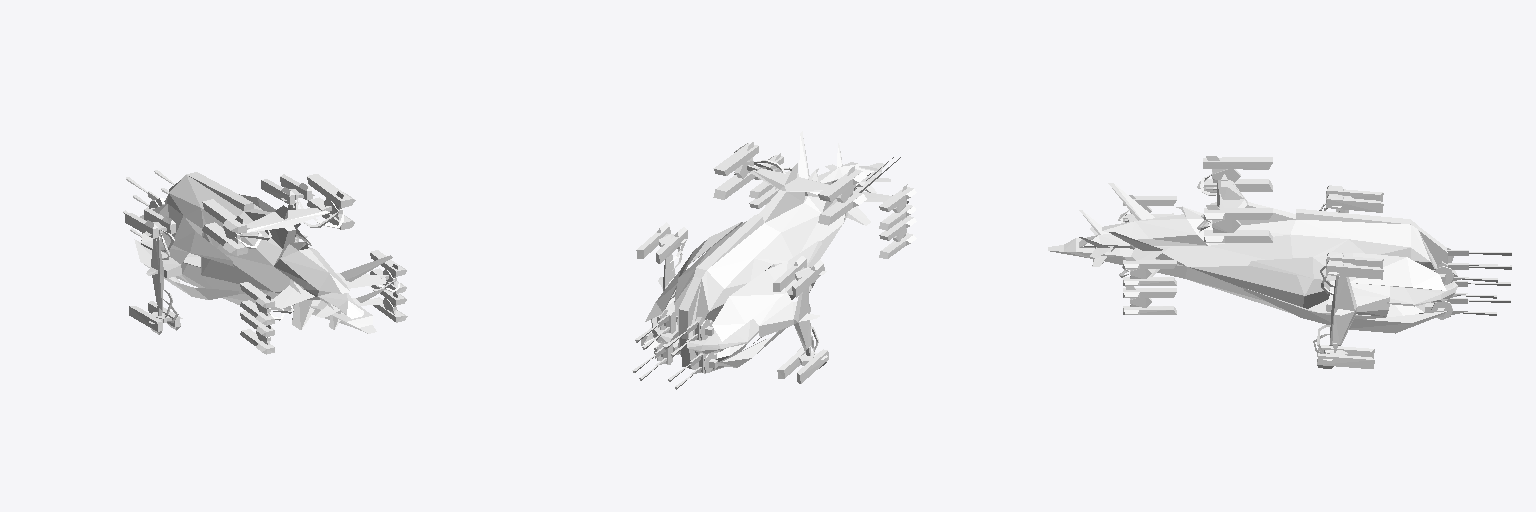
The model's file is ravager.obj.
3 views of the same model, side by side, from view 1: azimuth 30°, elevation 25°; view 2: azimuth 150°, elevation 25°; view 3: azimuth 270°, elevation 25° (orthographic).
Visible parts, largest first — view 1: ravager; view 2: ravager; view 3: ravager.
Part boxes in pixels (bbox=[...]): ravager: bbox=[123, 170, 407, 354]; ravager: bbox=[632, 131, 916, 389]; ravager: bbox=[1048, 156, 1511, 368].
Bounding box in the file's own units: 3.85 × 3.33 × 9.26.